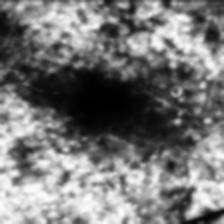Potentially Malignant Skin Tumors: (64, 70, 152, 132)
